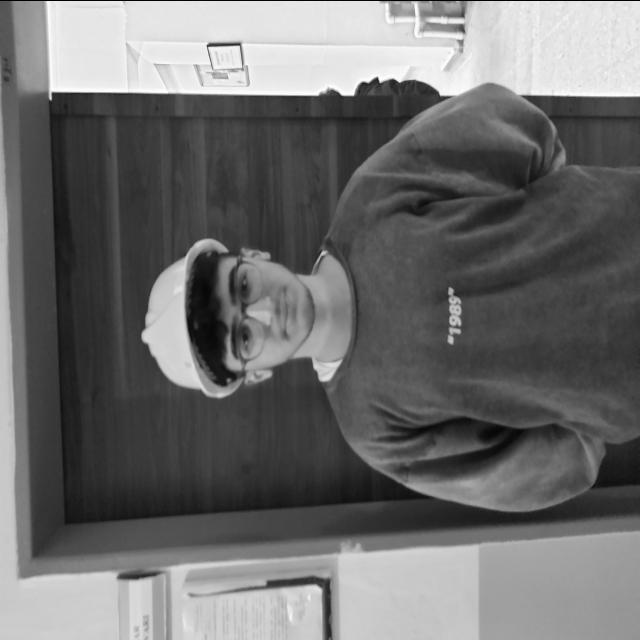safety_helmet: (142, 236, 245, 399)
